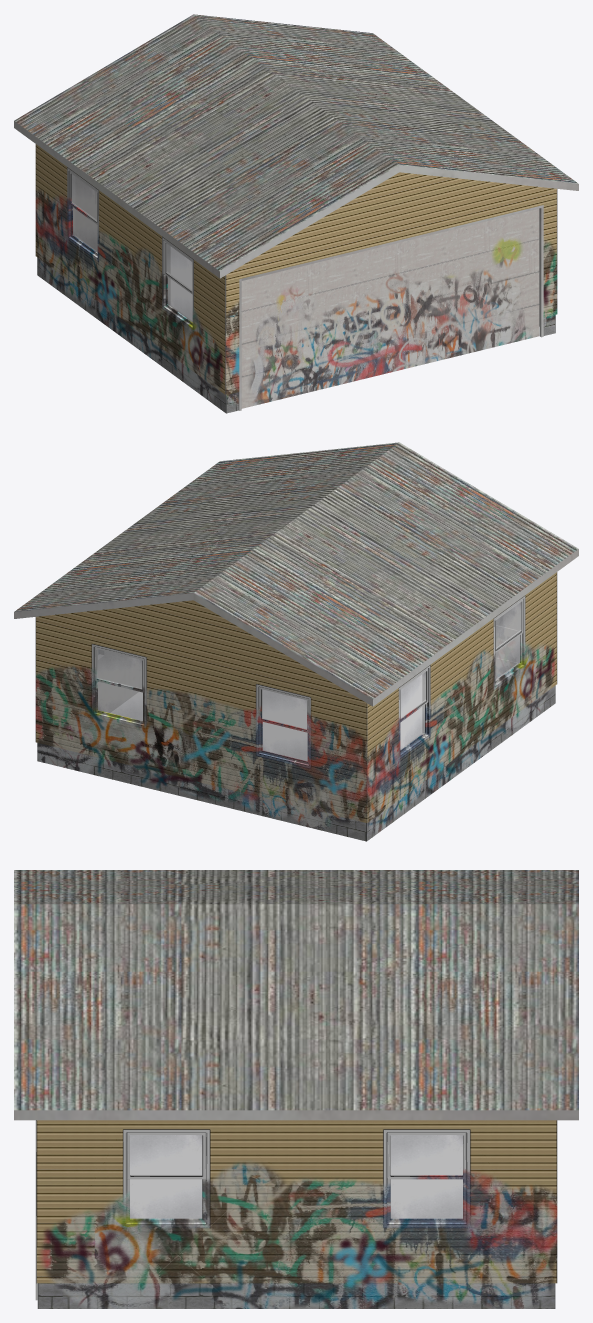
The model's file is graffiti_garage_02.glb.
3 renders of one model, top to bottom at view 1: azimuth 30°, elevation 25°; view 2: azimuth 150°, elevation 25°; view 3: azimuth 270°, elevation 25°, orthographic. The views are drawn at different scales.
Parts seen in each view (by area): view 1: Material2 (×6); view 2: Material2 (×6); view 3: Material2 (×4).
Part boxes in pixels (box(x1,y1,x2,y2)): Material2 (×6): box(14, 14, 578, 413); Material2 (×6): box(14, 442, 578, 841); Material2 (×4): box(14, 870, 578, 1308).
Bounding box in the file's own units: 314 × 179 × 312.
10 materials, 7 textured.
